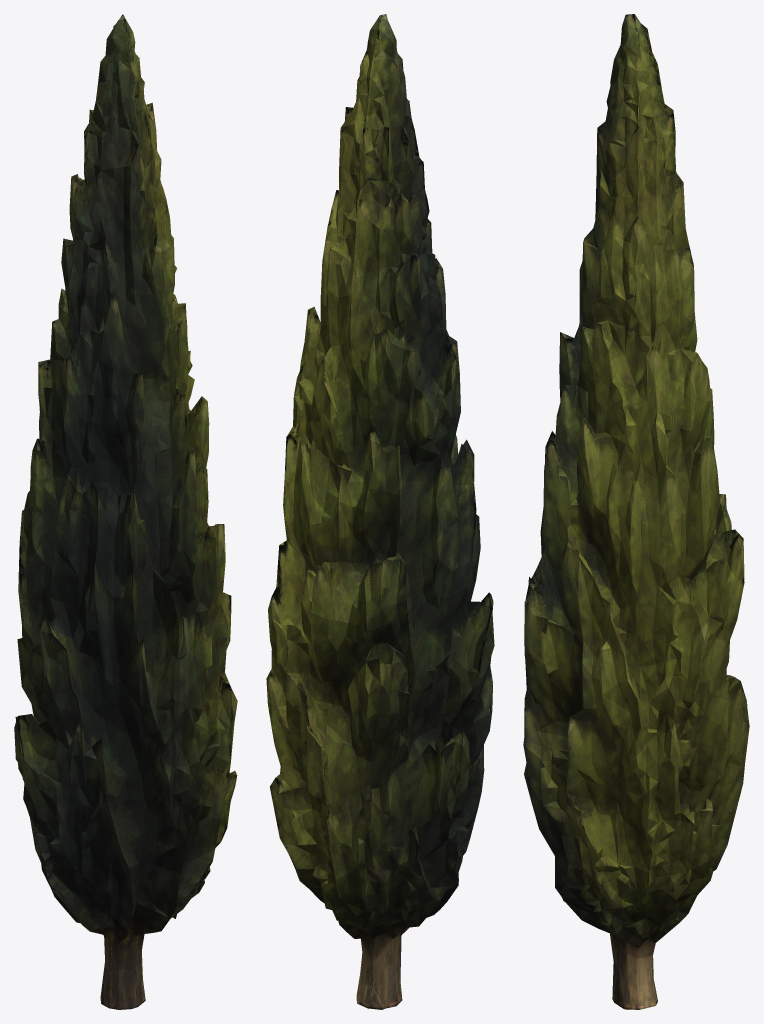
The model's file is nat_cypress.glb.
The picture shows the model from 3 angles, left to right: view 1: azimuth 30°, elevation 25°; view 2: azimuth 150°, elevation 25°; view 3: azimuth 270°, elevation 25°; orthographic projection.
Parts seen in each view (by area): view 1: world; view 2: world; view 3: world.
Part boxes in pixels (x1,y1,x2,y2): world: (14, 14, 237, 1009); world: (266, 14, 494, 1009); world: (523, 14, 749, 1009).
Bounding box in the file's own units: 0.2057 × 1 × 0.2081.
1 material, 1 textured.
